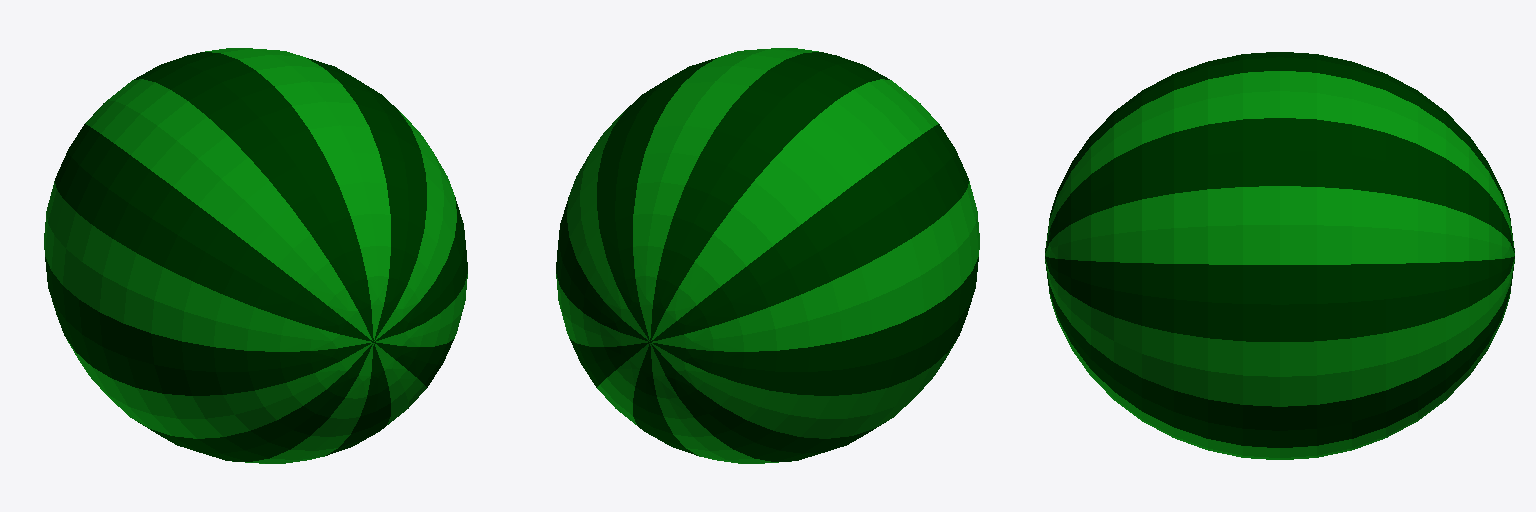
The model's file is Watermelon.obj.
3 views of the same model, side by side, from view 1: azimuth 30°, elevation 25°; view 2: azimuth 150°, elevation 25°; view 3: azimuth 270°, elevation 25° (orthographic).
Visible parts, largest first — view 1: Watermelon_Sphere; view 2: Watermelon_Sphere; view 3: Watermelon_Sphere.
Part boxes in pixels (bbox=[...]): Watermelon_Sphere: bbox=[44, 48, 467, 463]; Watermelon_Sphere: bbox=[556, 48, 979, 463]; Watermelon_Sphere: bbox=[1045, 52, 1514, 459].
Bounding box in the file's own units: 1.92 × 1.92 × 2.21.